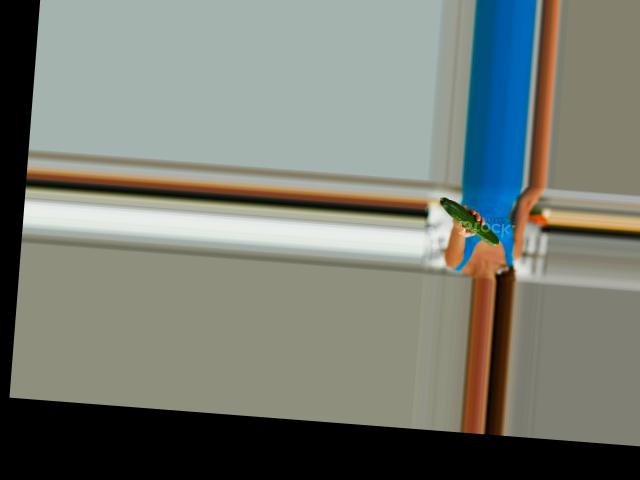cucumber: (437, 196, 502, 245)
